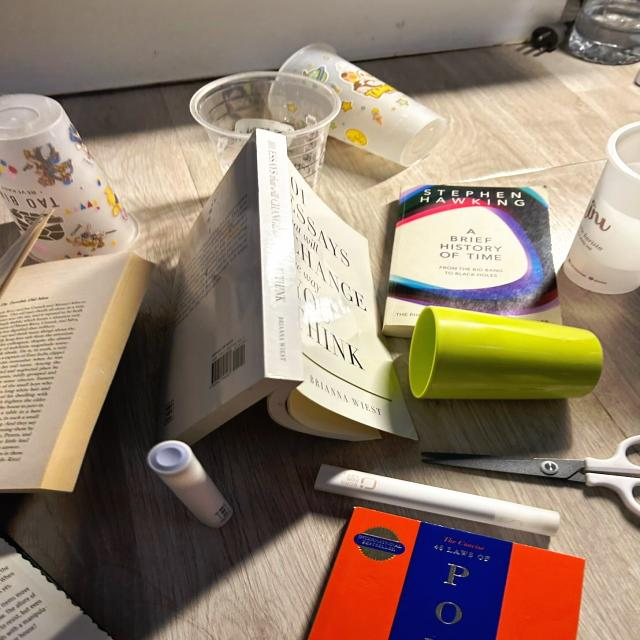Book: (165, 136, 418, 449), (6, 252, 160, 494), (308, 507, 585, 640), (383, 185, 561, 338), (0, 537, 111, 640), (0, 216, 43, 300)
HighLight Pen: (315, 464, 559, 536), (147, 441, 232, 527)
Plastic Cup: (0, 94, 137, 262), (280, 44, 447, 167), (190, 71, 340, 187), (561, 122, 639, 294)
WaterGlass: (409, 307, 602, 399)
